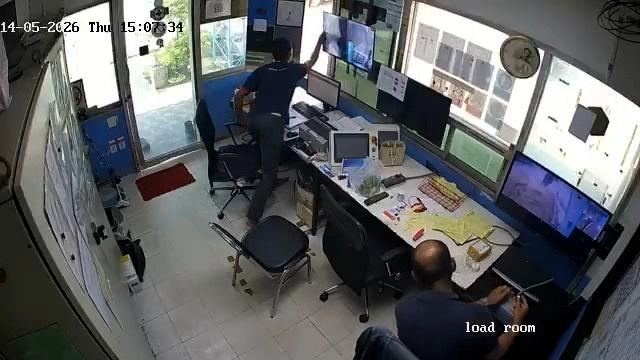Head: (409, 239, 456, 287), (271, 36, 294, 59)
People: (233, 32, 325, 218), (400, 239, 524, 359)
